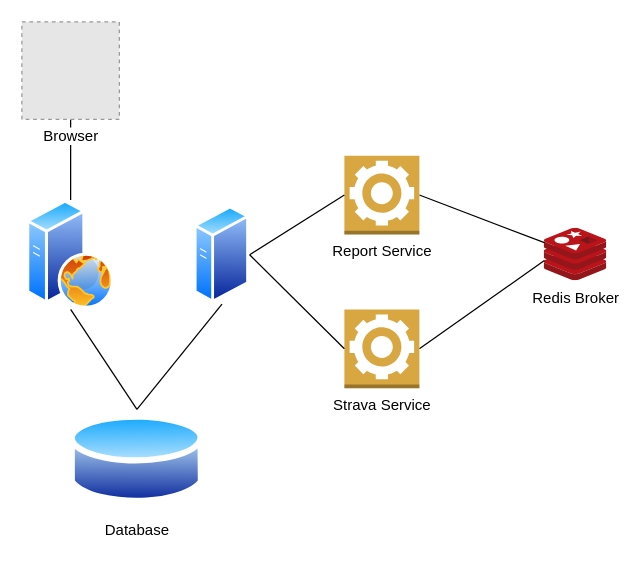
Some shapes in this 640 by 561 pixel diagram are drawn without their labels. Grey dashed boxes stand in for pictures. The shapes that lost their labels are listed below. From the top down, each one's centre as x and y in pixels, then its label:
At [70,254]: "Flask App".
At [221,254]: "Data Service".
